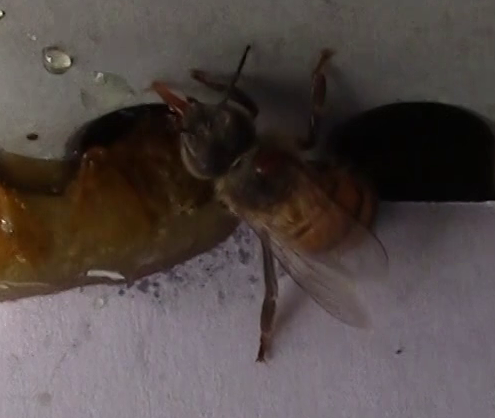Varroa destructor: (249, 145, 288, 179)
